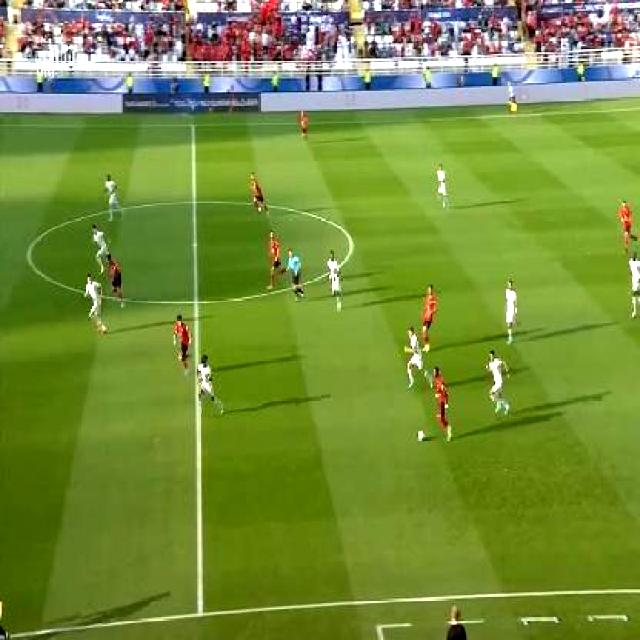halfcircle_bottom: (186, 285, 208, 317)
halfcircle_top: (183, 189, 205, 214)
midline_bottom_intersection: (185, 592, 217, 630)
midline_top_intersection: (186, 115, 200, 134)
